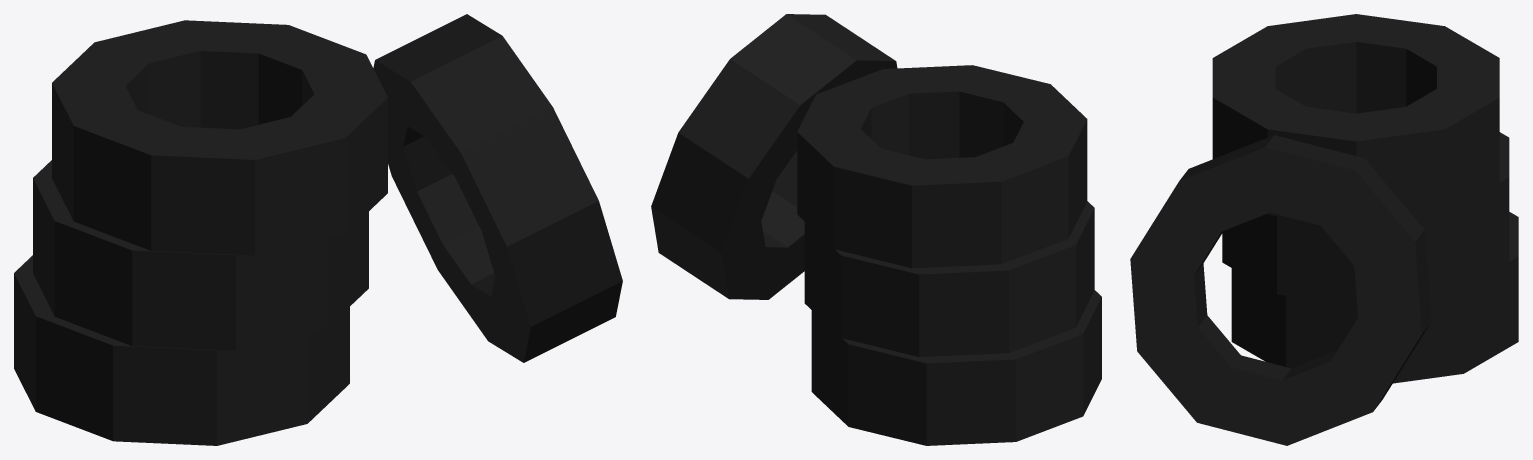
The model's file is tyre_stack.glb.
The picture shows the model from 3 angles, left to right: view 1: azimuth 30°, elevation 25°; view 2: azimuth 150°, elevation 25°; view 3: azimuth 270°, elevation 25°; orthographic projection. The views are drawn at different scales.
Visible parts, largest first — view 1: tyre_stack; view 2: tyre_stack; view 3: tyre_stack.
Part boxes in pixels (x1,y1,x2,y2): tyre_stack: (14, 14, 622, 445); tyre_stack: (651, 14, 1101, 445); tyre_stack: (1130, 14, 1518, 445).
Bounding box in the file's own units: 1.08 × 0.6736 × 0.8235.
Materials: 1 (1 with a texture image).
